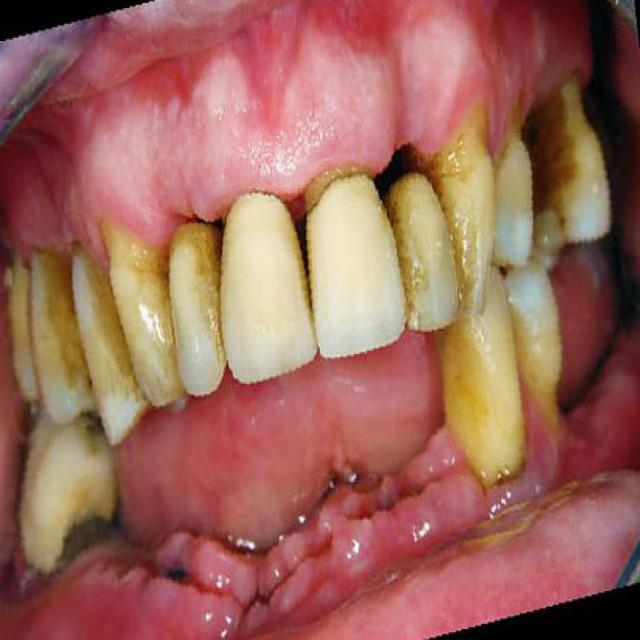caries: (46, 497, 110, 581)
